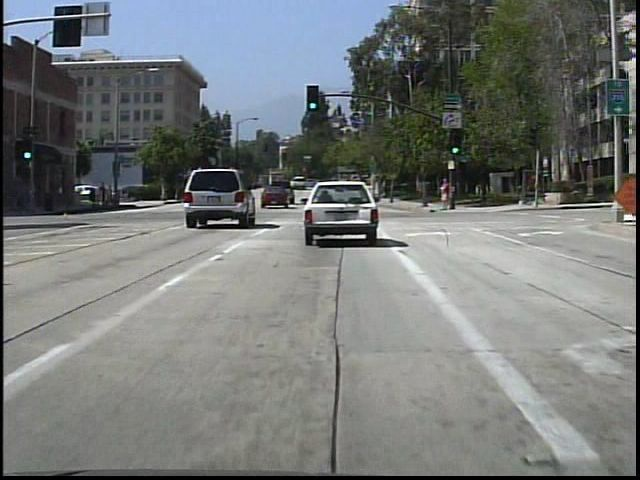person: (435, 173, 454, 213), (101, 180, 112, 211), (113, 182, 114, 209)
